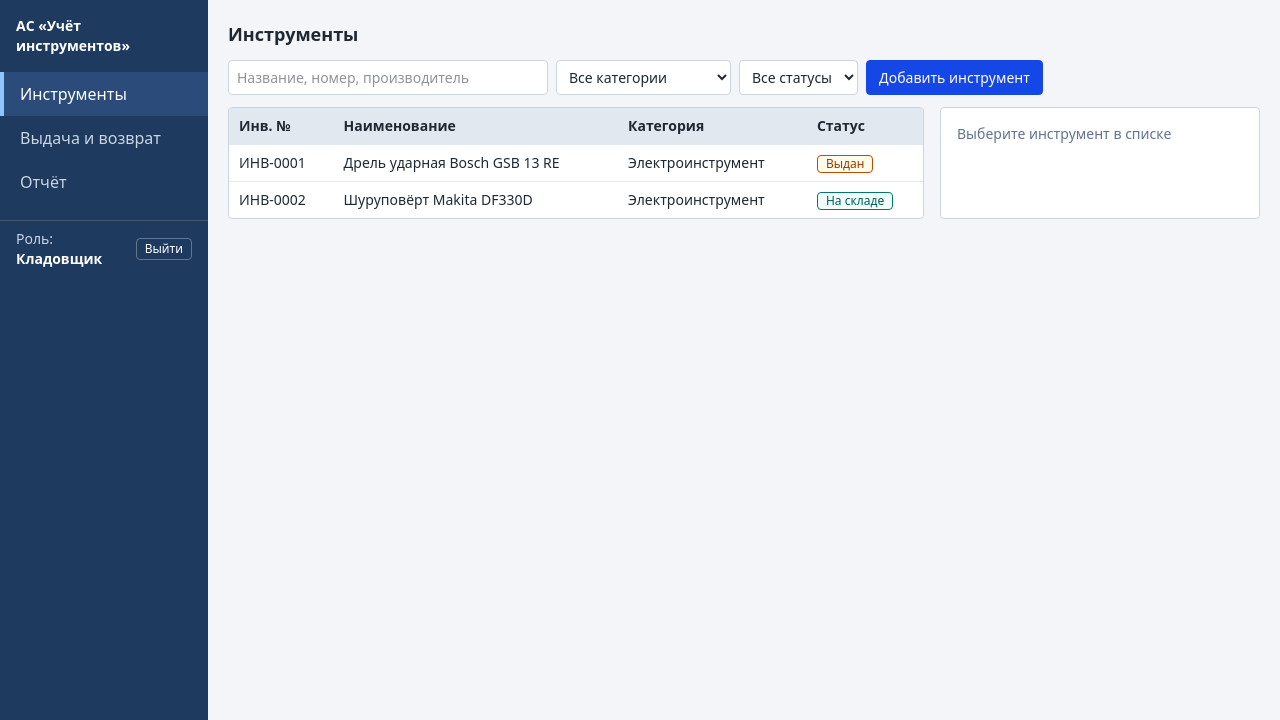
Scenario: role-based access › signs out and asks for a role again
The image size is (1280, 720).
Click the button "Выйти": click(164, 249) 136,238 -> 192,260
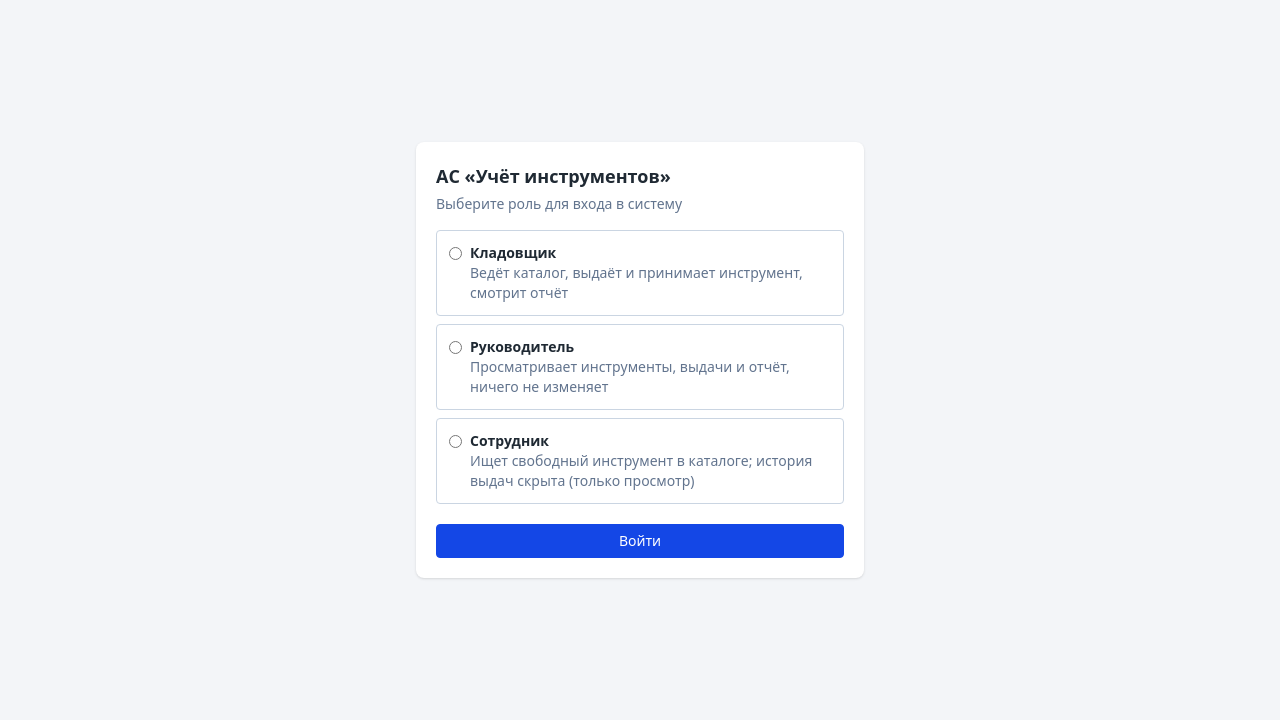
Expected: the radio button labelled "Сотрудник" is shown, 449,435 -> 462,448
